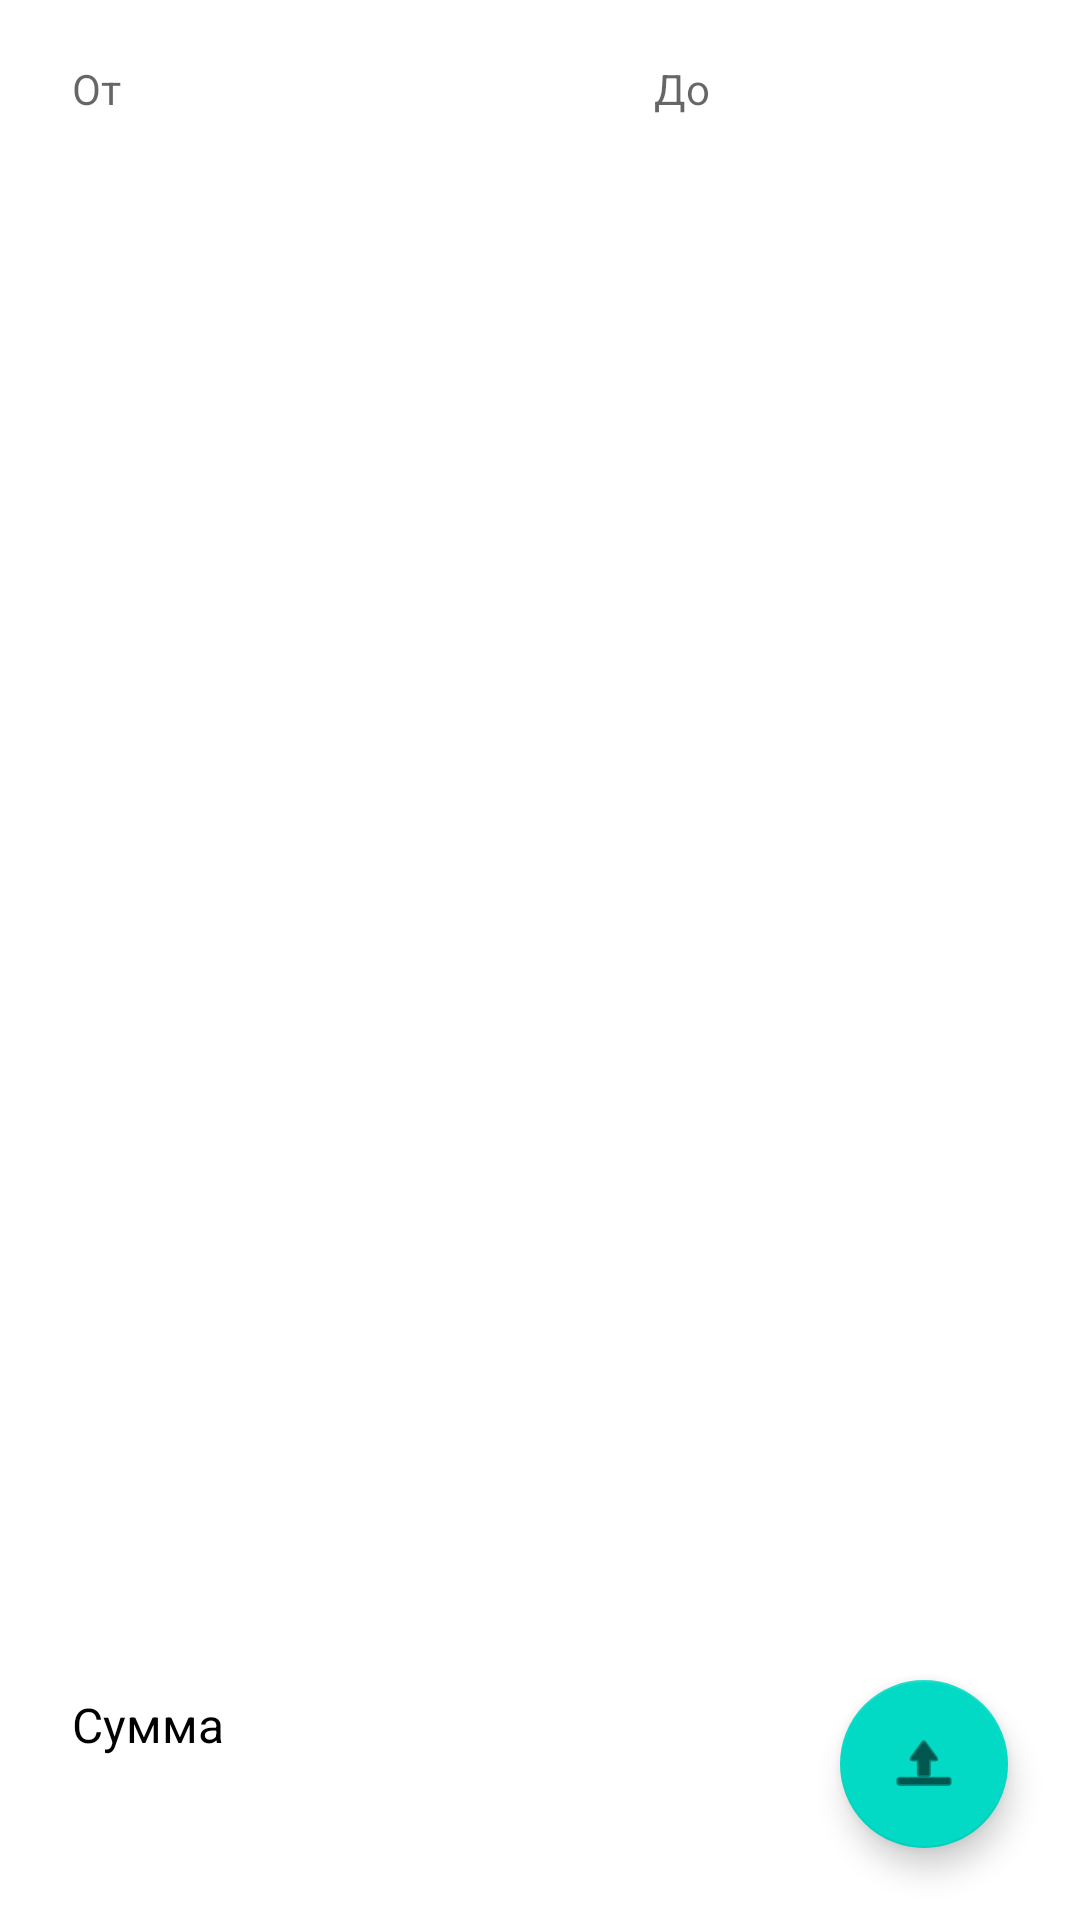

Screen size 1080x1920. Icon name, then its center in pixels as (x=x, y=y):
upload: (x=924, y=1764)
